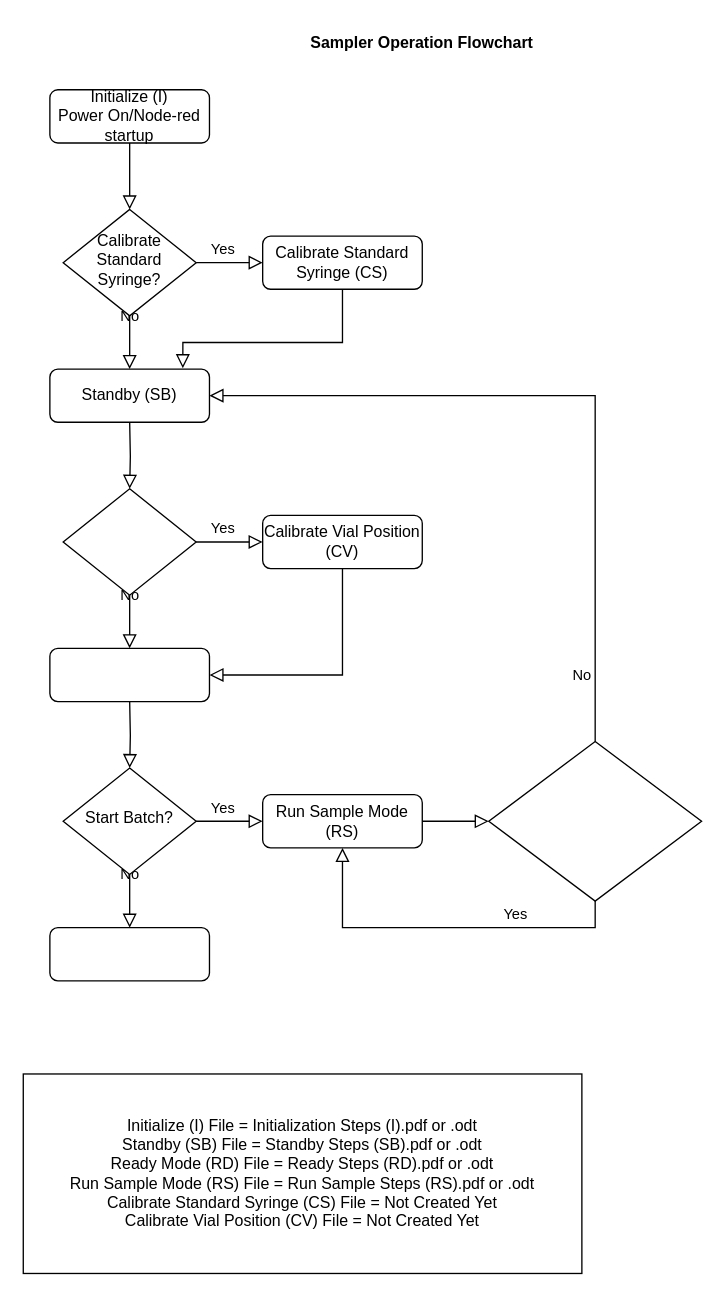
The diagram is 725 pixels wide and 1297 high, and some of its shapes have lost their labels. Here are the shapes that lost their labels. From the top down, the centre of each, then its label:
point (129, 541): Calibrate Vial Position?
point (129, 674): Ready Mode (RD)
point (594, 820): Advance X Axis after Sample, Is Next Vial Present (RS1)?
point (129, 953): Wait
